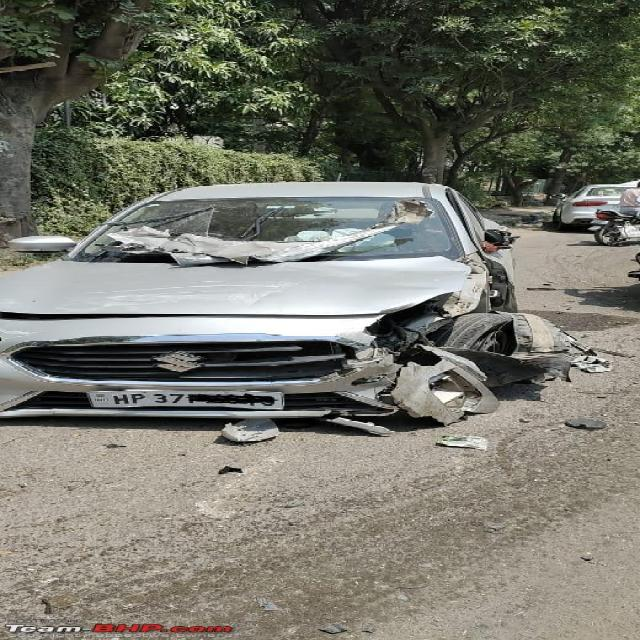accident: (0, 182, 584, 441)
car: (551, 180, 638, 231)
